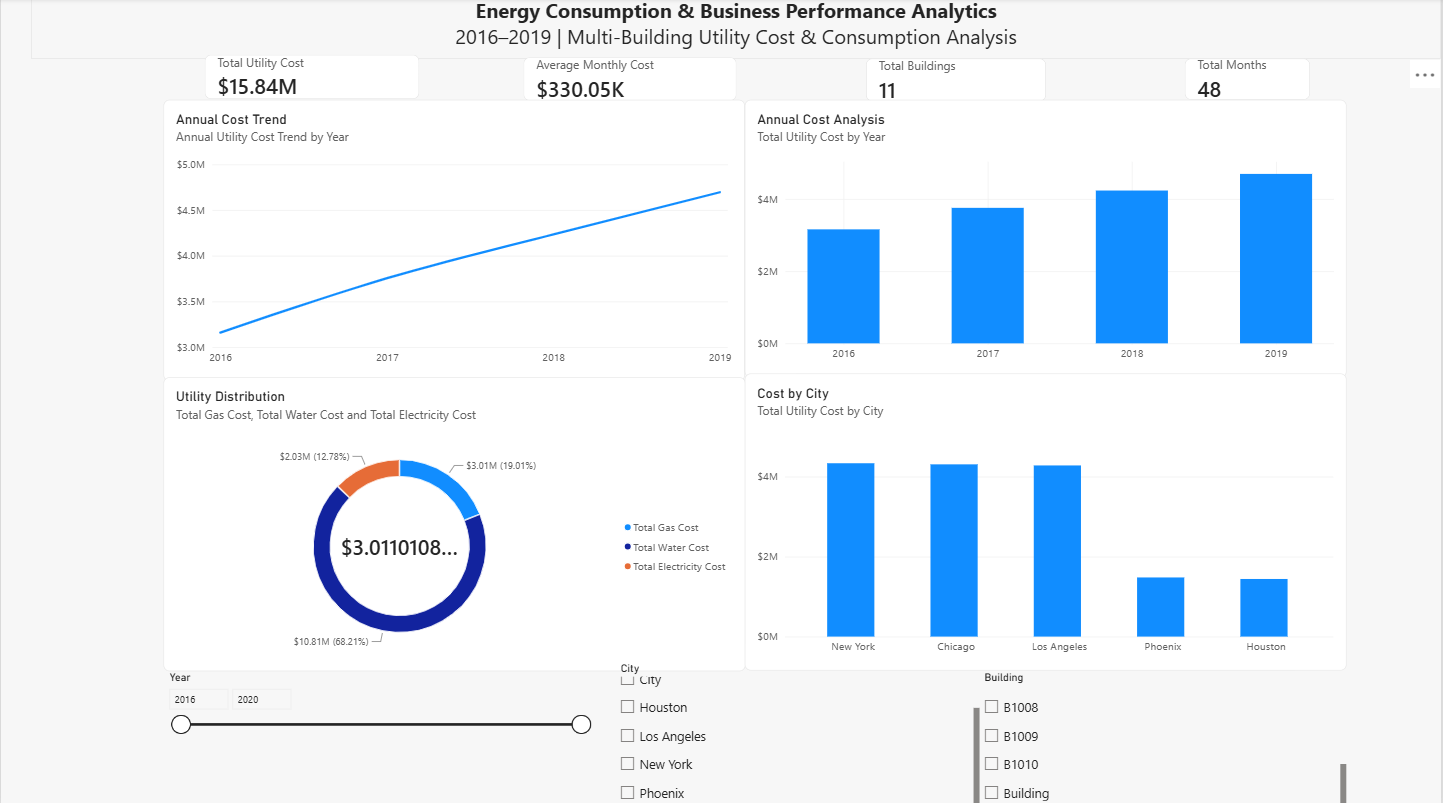

This screenshot's page, from the dashboard's own definition file:
{"tool":"powerbi","page":{"name":"Executive Overview","canvas":[1920,1080],"ordinal":0},"visuals":[{"type":"textbox","box":[40,0,1880,82.5],"z":0},{"type":"cardVisual","fields":{"Data":["_Measures.Total Utility Cost"]},"box":[272,78,286,59.3],"z":1000},{"type":"cardVisual","fields":{"Data":["_Measures.Average Monthly Cost"]},"box":[696,82,284.3,58.6],"z":2000},{"type":"cardVisual","fields":{"Data":["_Measures.Total Buildings"]},"box":[1153.3,83.3,240,57.1],"z":3000},{"type":"cardVisual","fields":{"Data":["_Measures.Total Months"]},"box":[1578,84,167.1,55.7],"z":4000},{"type":"lineChart","title":"Annual Cost Trend ","fields":{"Category":["dim_calendar.Year_Month.Variation.Date Hierarchy.Year","dim_calendar.Year_Month.Variation.Date Hierarchy.Quarter","dim_calendar.Year_Month.Variation.Date Hierarchy.Month","dim_calendar.Year_Month.Variation.Date Hierarchy.Day"],"Y":["_Measures.Total Utility Cost"]},"box":[216.5,137.5,775,375],"z":5000},{"type":"clusteredColumnChart","title":"Annual Cost Analysis","fields":{"Category":["dim_calendar.Year"],"Y":["_Measures.Total Utility Cost"]},"box":[991.5,137.5,802.5,370],"z":6000},{"type":"donutChart","title":"Utility Distribution","fields":{"Y":["_Measures.Total Gas Cost","_Measures.Total Water Cost","_Measures.Total Electricity Cost"]},"box":[216,508,776,392],"z":7000},{"type":"clusteredColumnChart","title":"Cost by City","fields":{"Category":["dim_building.City"],"Y":["_Measures.Total Utility Cost"]},"box":[992,504,802,396],"z":8000},{"type":"slicer","fields":{"Values":["dim_calendar.Year"]},"box":[216.7,900,573.3,180],"z":9000},{"type":"slicer","fields":{"Values":["dim_building.City"]},"box":[818,888,486,192],"z":10000},{"type":"slicer","fields":{"Values":["dim_building.Building"]},"box":[1304,900,490,180],"z":11000}]}

Visuals, with their boxes in screenshot pixels (x1, y1, x2, y2), scaled from the page's 1920x1080 canvas onto the 1443x803 screenshot:
textbox: 30,0,1442,61
cardVisual - _Measures.Total Utility Cost: 204,58,419,102
cardVisual - _Measures.Average Monthly Cost: 523,61,737,105
cardVisual - _Measures.Total Buildings: 867,62,1047,104
cardVisual - _Measures.Total Months: 1186,62,1312,104
"Annual Cost Trend " lineChart: 163,102,745,381
"Annual Cost Analysis" clusteredColumnChart: 745,102,1348,377
"Utility Distribution" donutChart: 162,378,746,669
"Cost by City" clusteredColumnChart: 746,375,1348,669
slicer - dim_calendar.Year: 163,669,594,802
slicer - dim_building.City: 615,660,980,802
slicer - dim_building.Building: 980,669,1348,802
